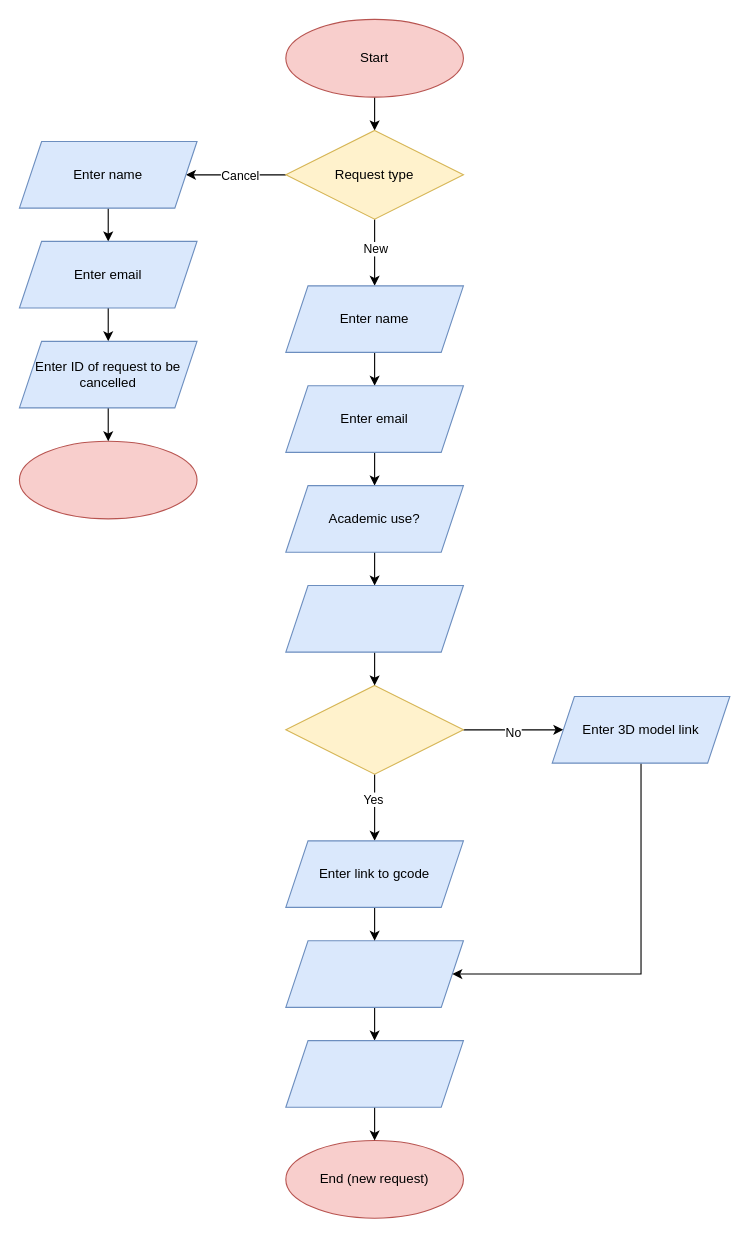
Some shapes in this 749 by 1238 pixel diagram are drawn without their labels. The shapes that lost their labels are listed below. From the top down, each one's box as (x1, y1, x2, y2) in pixels, then its label:
(18, 440, 197, 519): End (cancel request)
(285, 584, 463, 652): Access to ESSS common room?
(285, 684, 463, 774): Upload Gcode?
(285, 940, 463, 1007): Select filament color
(285, 1040, 463, 1107): Select if receipt is needed
